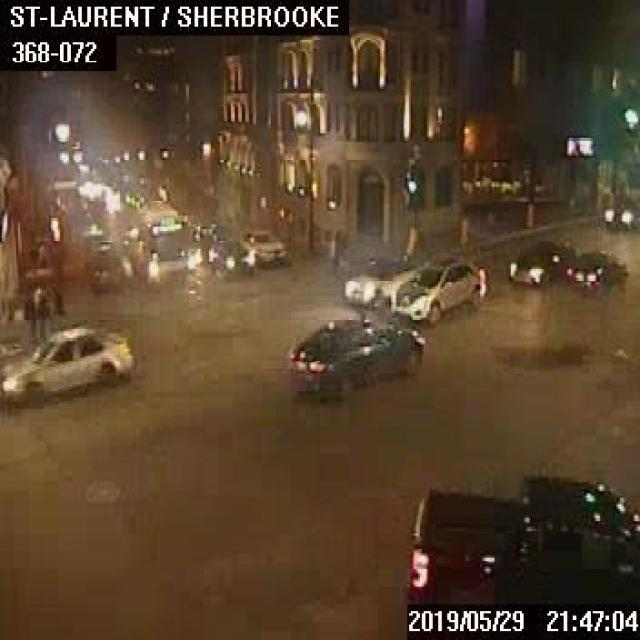bus: (129, 199, 193, 283)
construction: (521, 198, 533, 228), (457, 214, 468, 242), (406, 222, 414, 249)
pedestrian: (36, 288, 48, 335), (26, 287, 36, 335), (51, 282, 62, 323)
vehicle: (402, 473, 638, 600), (287, 314, 424, 400), (0, 324, 133, 404), (388, 251, 487, 326), (343, 252, 418, 310), (504, 238, 575, 284), (564, 249, 625, 290), (85, 239, 129, 291), (237, 228, 284, 265), (206, 237, 253, 273), (602, 195, 638, 229), (191, 221, 216, 262)
